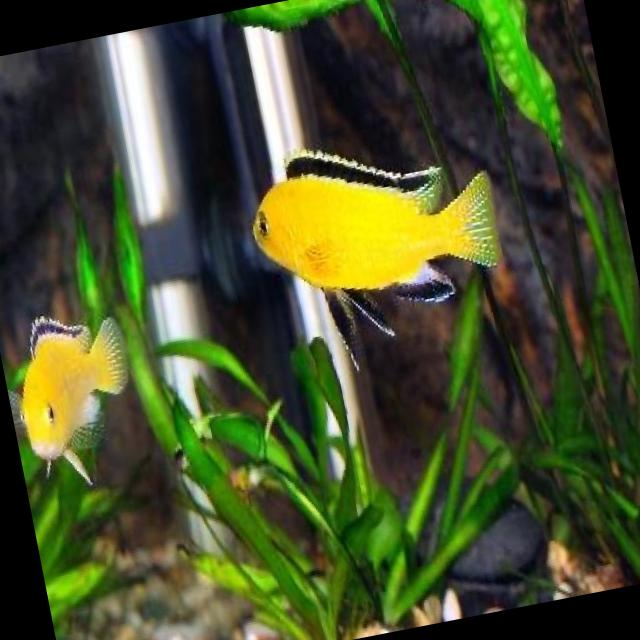YellowCichlid: (224, 87, 534, 403), (0, 281, 136, 478)
